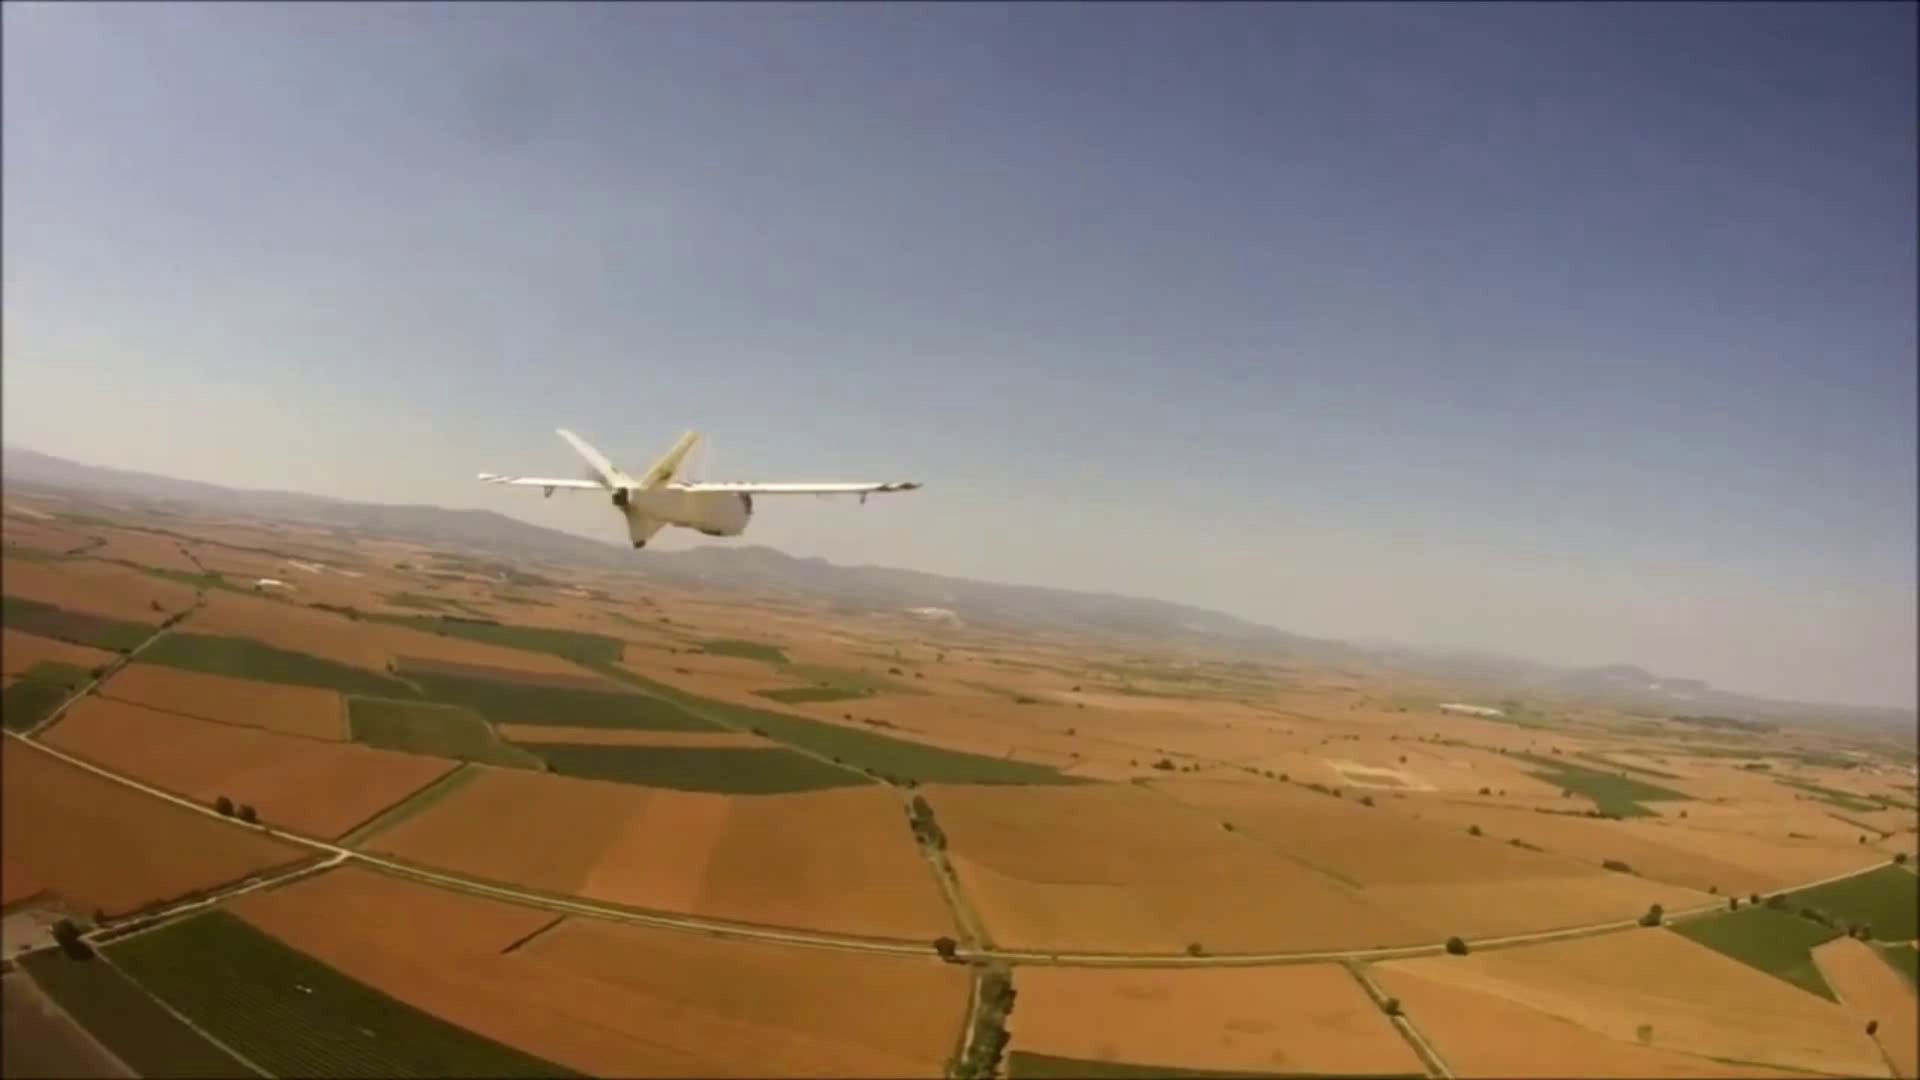airplane: (474, 428, 922, 550)
